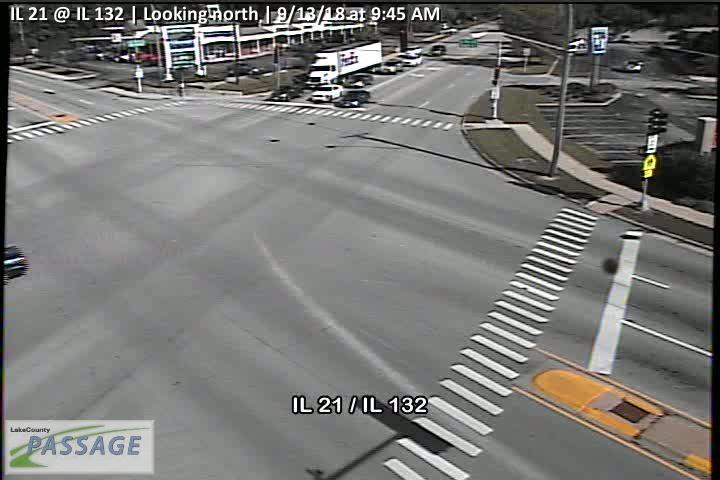SUV: (379, 57, 405, 74), (427, 44, 446, 56)
Sedan: (334, 89, 371, 107), (310, 83, 343, 103), (269, 85, 303, 102), (344, 72, 374, 88), (402, 53, 424, 67)
Truck: (304, 39, 382, 87)
